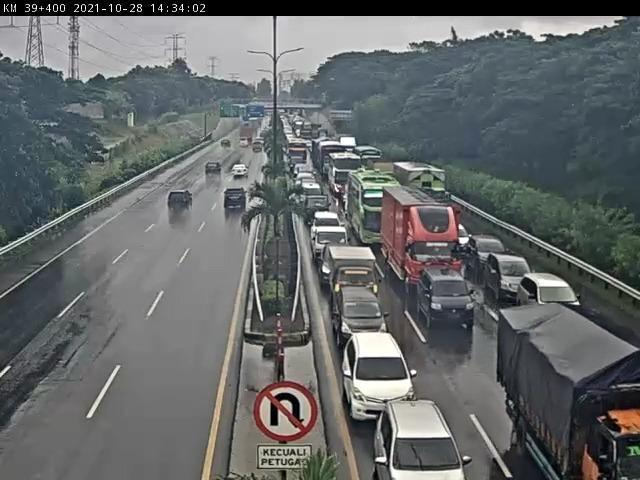bus: (349, 172, 402, 248), (323, 152, 363, 194)
car: (368, 386, 464, 480), (336, 323, 411, 405), (417, 263, 473, 329), (323, 247, 385, 305), (328, 287, 390, 344), (489, 256, 534, 303), (521, 274, 581, 308), (311, 223, 352, 265), (467, 236, 509, 271), (299, 195, 331, 225), (166, 190, 196, 216), (448, 222, 471, 253), (220, 191, 247, 216), (297, 179, 321, 200), (313, 209, 341, 227), (200, 167, 219, 188), (228, 169, 250, 185), (217, 137, 234, 153), (295, 168, 313, 183), (236, 140, 251, 156), (253, 142, 266, 158)
truck: (485, 306, 640, 480), (382, 186, 461, 296), (393, 160, 457, 214)
